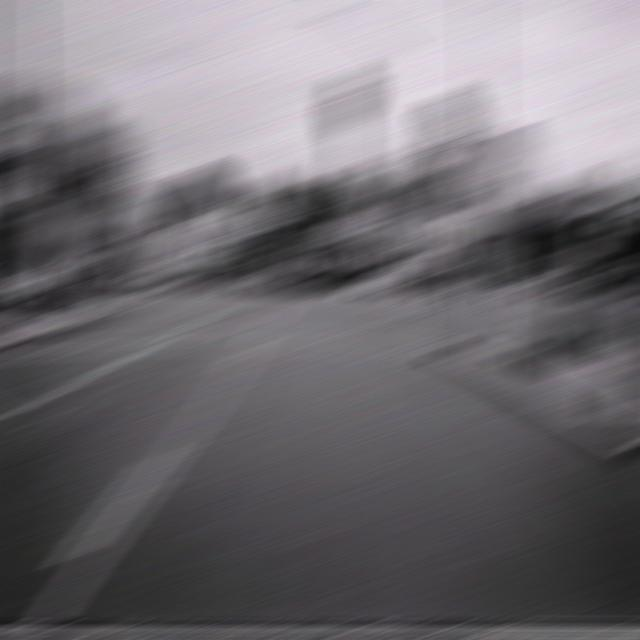pedestrianCrossing: (462, 128, 505, 170)
